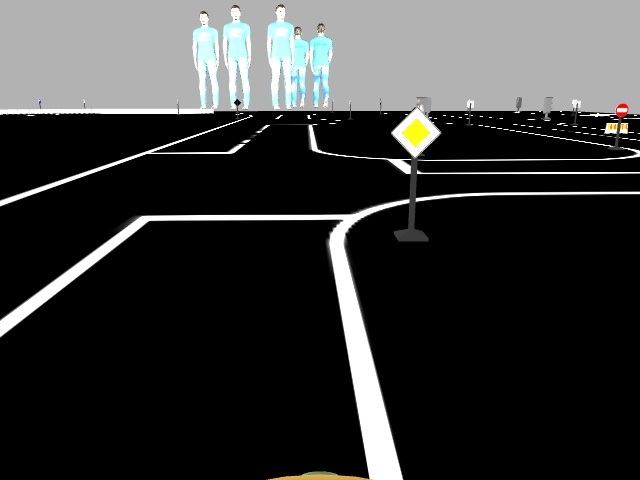ClosedRoadStand: (604, 121, 630, 134)
NoEntry: (614, 100, 629, 117)
Priority: (388, 107, 445, 159)
